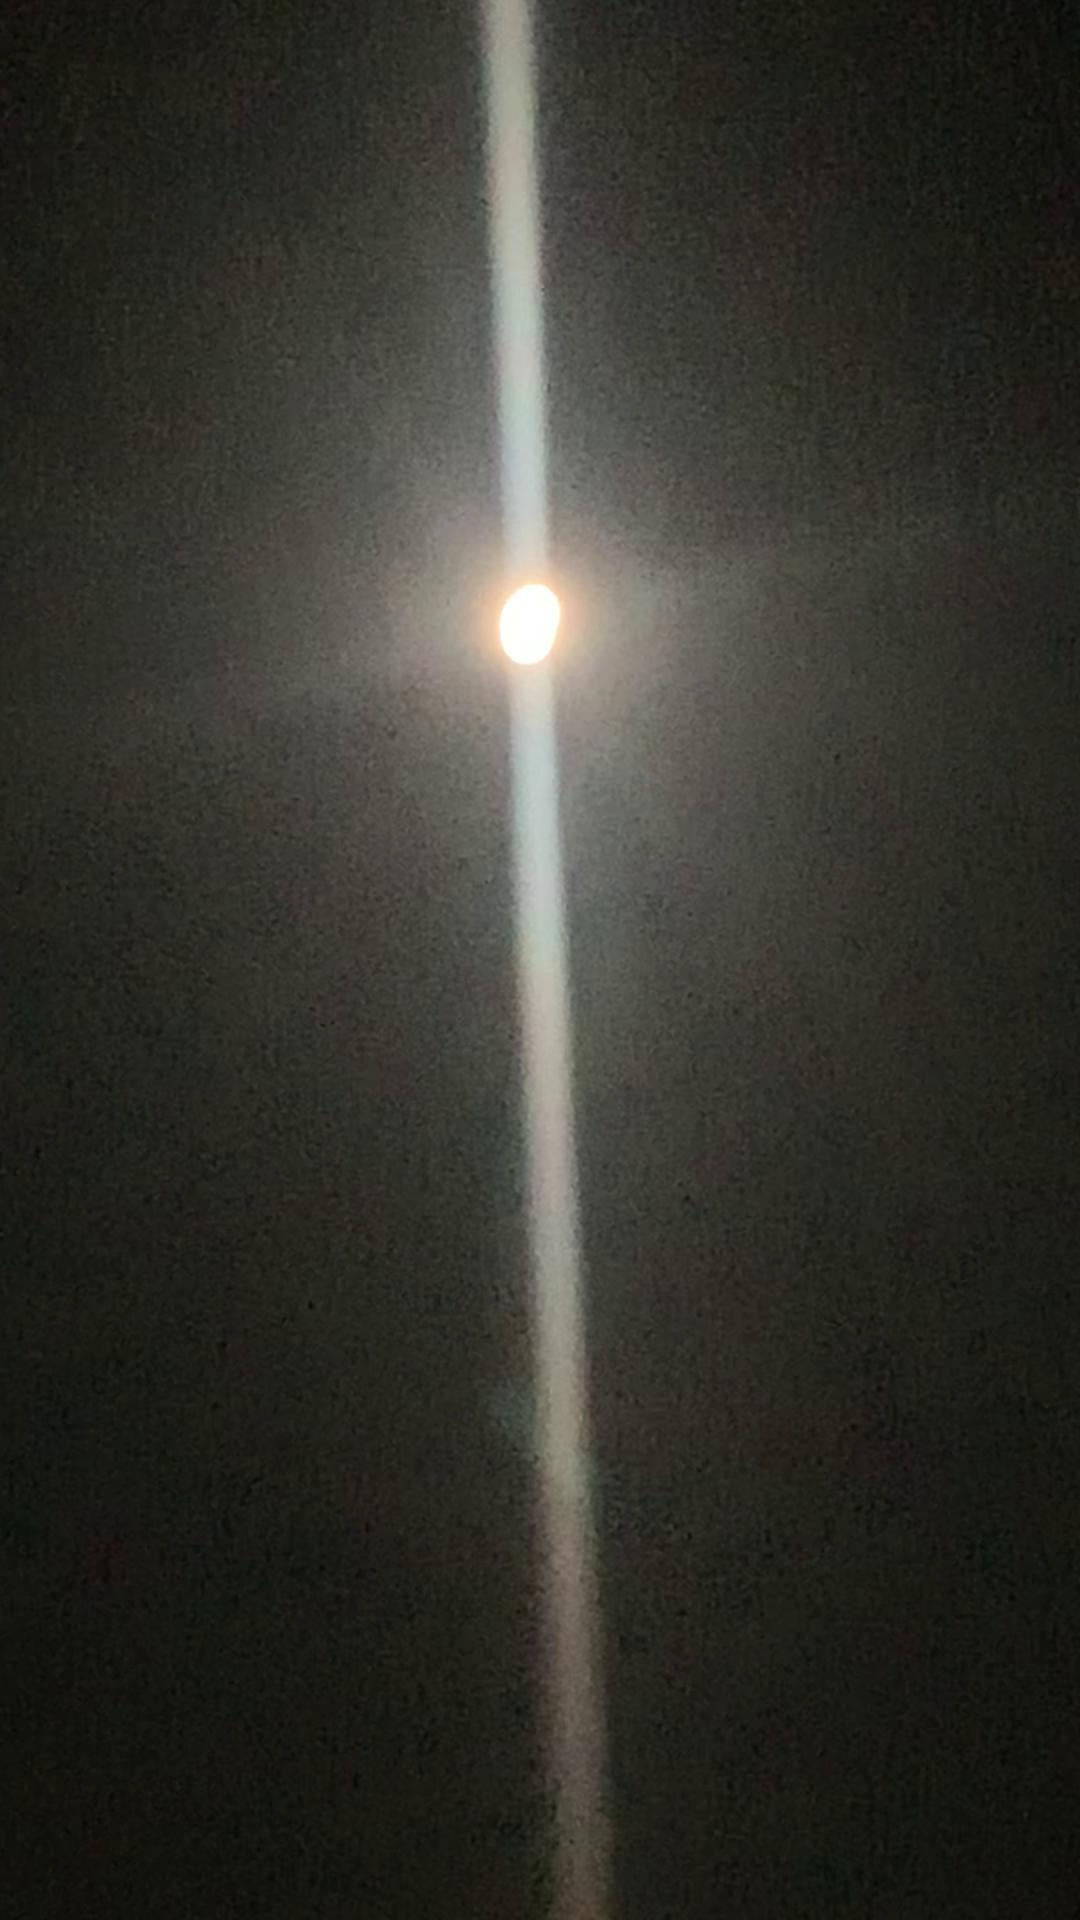moon: (469, 562, 597, 687)
